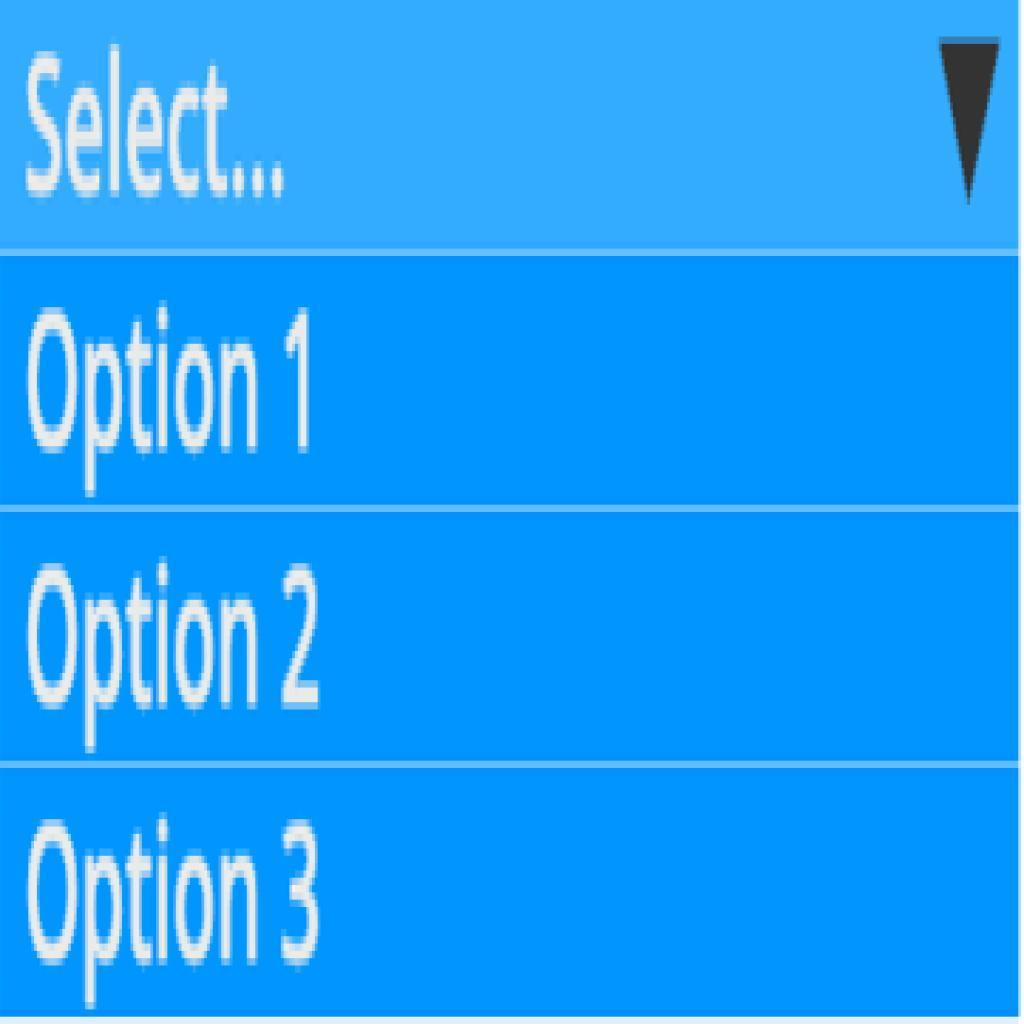dropdown: (1, 1, 1021, 257)
